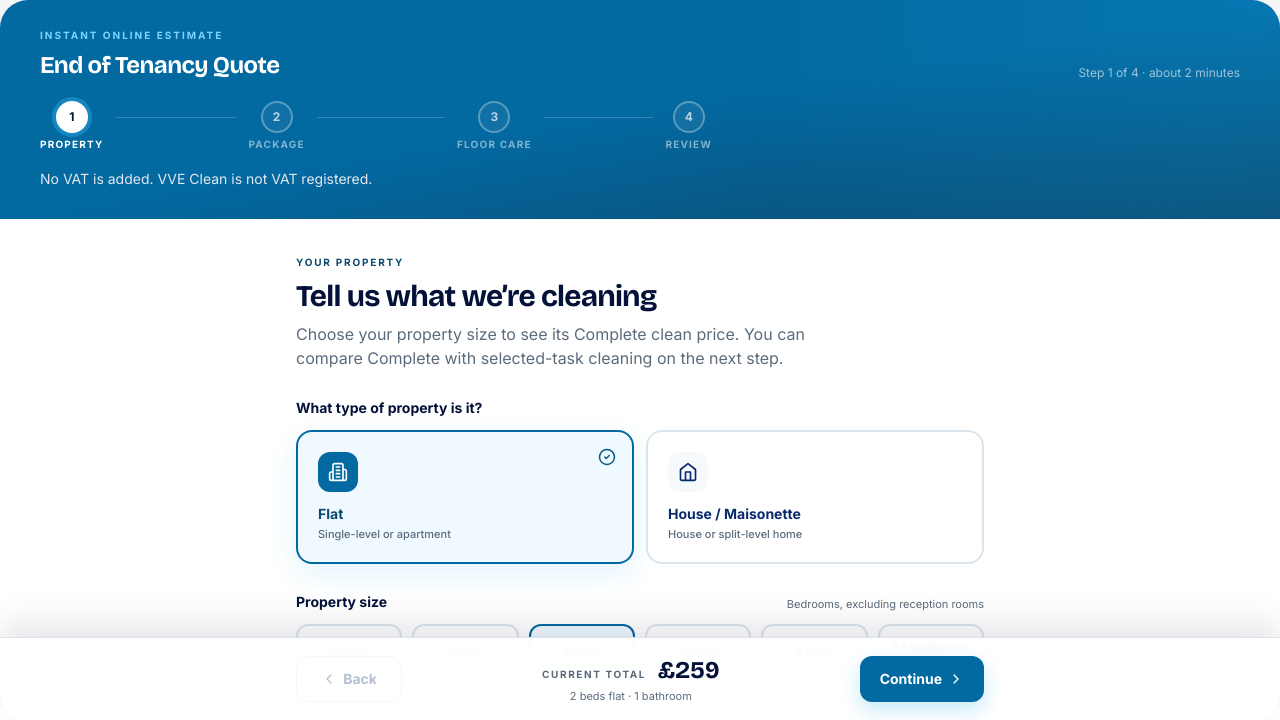
Test case: EotQuoteWizard — Step 3: Floor care (standard choices first) › Standard is selected by default while Professional remains an optional upgrade
Click the button "Continue": (922, 679) [860,656,984,702]
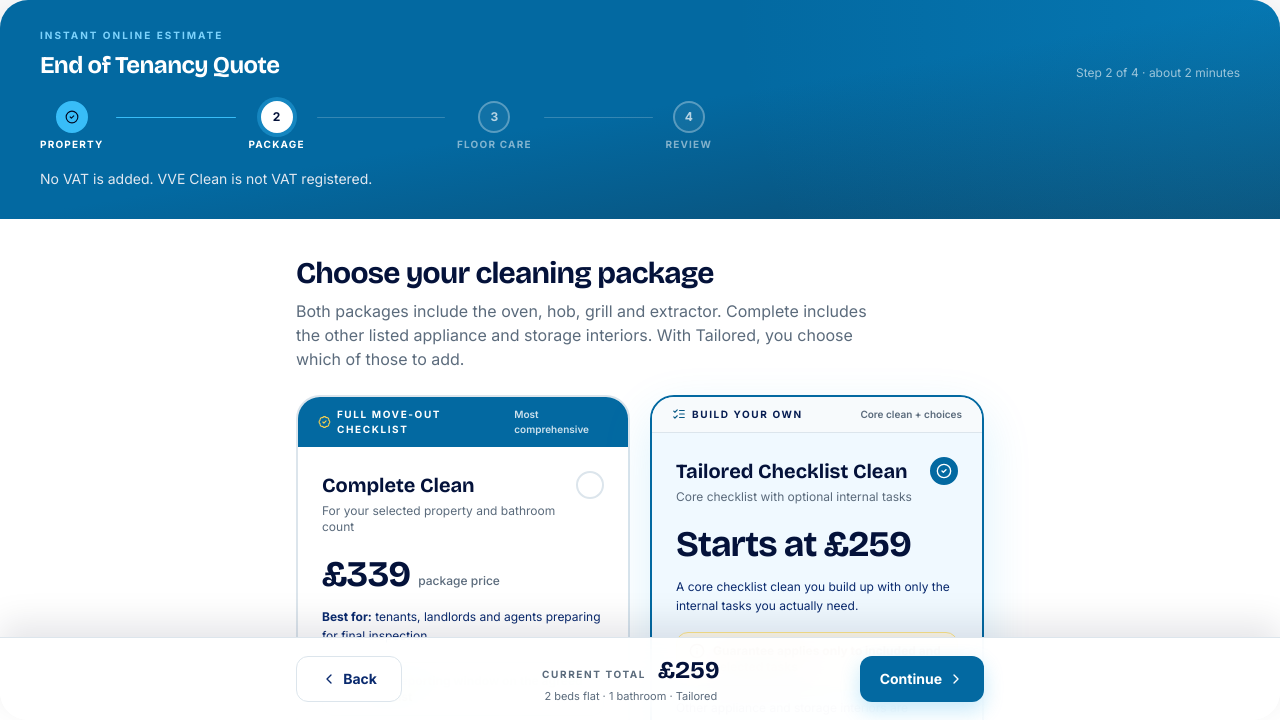
Click the button "Continue": (922, 679) [860,656,984,702]
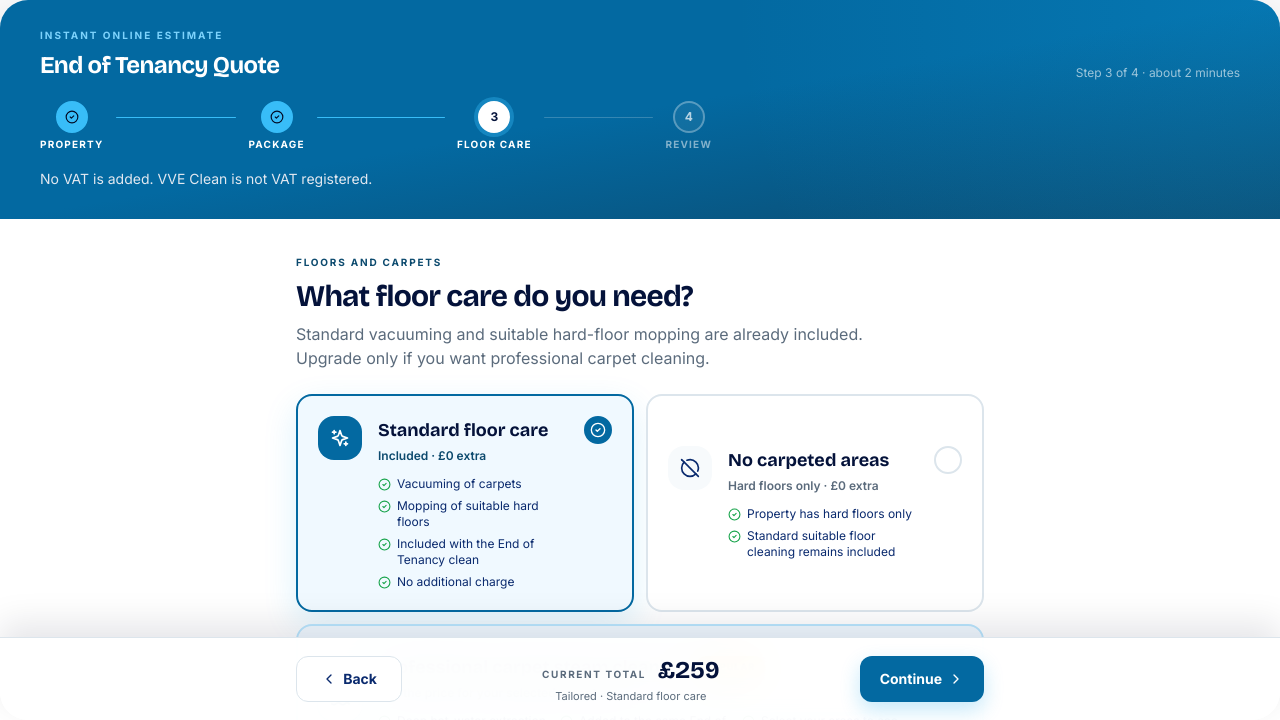
Expected: the text "Popular" is shown, [695,656,765,678]
Expected: the text "See the price for your selected carpet areas" is shown, [378,685,632,700]
